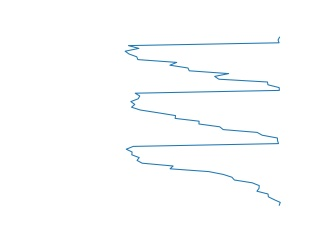distributaryMouthBar: (121, 33, 288, 208)
